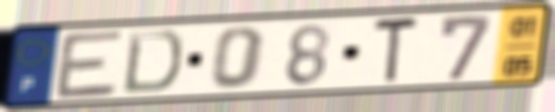0: (208, 24, 267, 93)
7: (437, 13, 495, 82)
8: (282, 23, 332, 88)
D: (119, 28, 186, 96)
E: (51, 27, 128, 102)
T: (371, 13, 422, 87)
